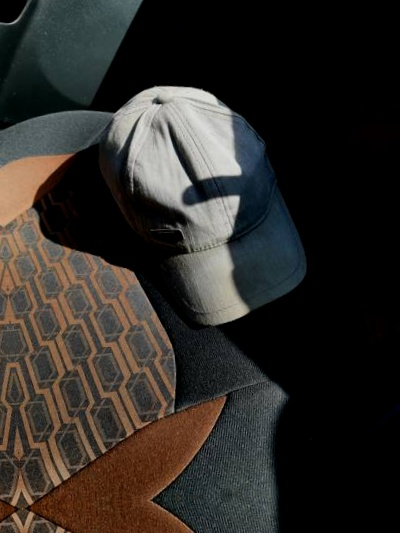Hat: (86, 70, 331, 350)
